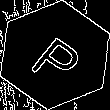P_NE: (23, 24, 87, 86)
